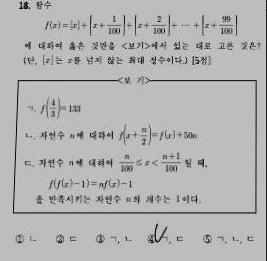choice: (146, 226, 159, 244)
not-choice: (201, 232, 213, 244), (94, 232, 105, 244), (54, 233, 65, 244), (14, 233, 25, 243)
